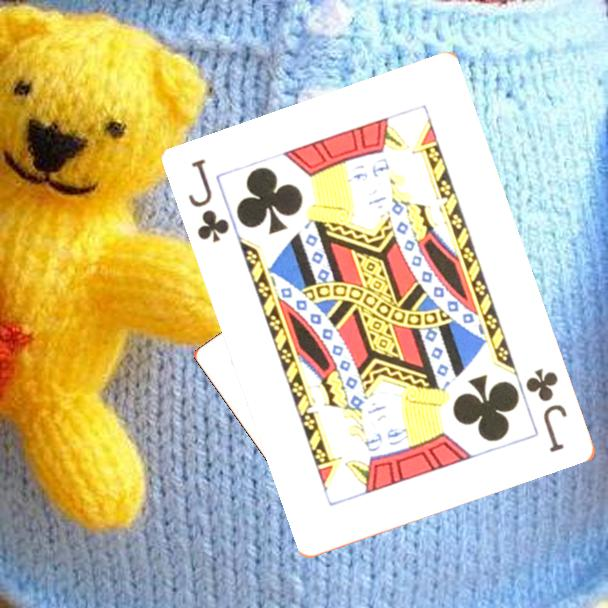c11: (522, 365, 571, 456), (185, 155, 233, 246)
